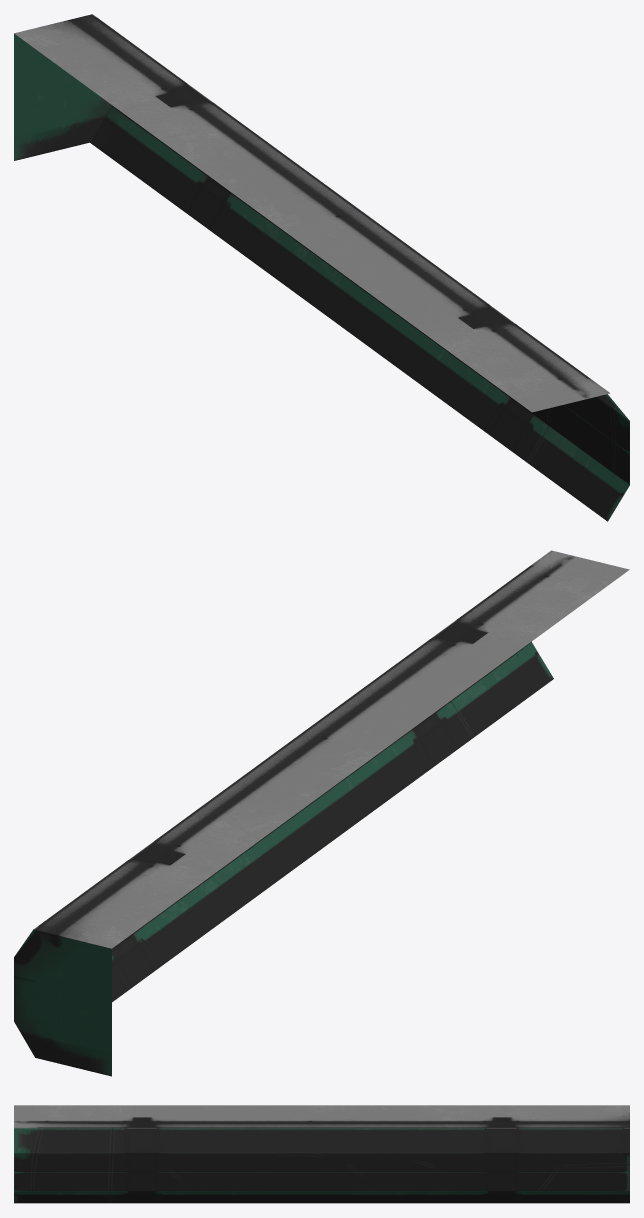
File: 2 kabe.fbx
3 views of the same model, one above another, from view 1: azimuth 30°, elevation 25°; view 2: azimuth 150°, elevation 25°; view 3: azimuth 270°, elevation 25° (orthographic). The views are drawn at different scales.
Parts seen in each view (by area): view 1: polySurface361; view 2: polySurface361; view 3: polySurface361.
Boxes of the visible parts, left/top/right/bottom form: polySurface361: left=14, top=14, right=629, bottom=521; polySurface361: left=14, top=550, right=629, bottom=1076; polySurface361: left=14, top=1105, right=629, bottom=1203.
Bounding box in the file's own units: 14.02 × 17.47 × 128.
1 material, 1 textured.
